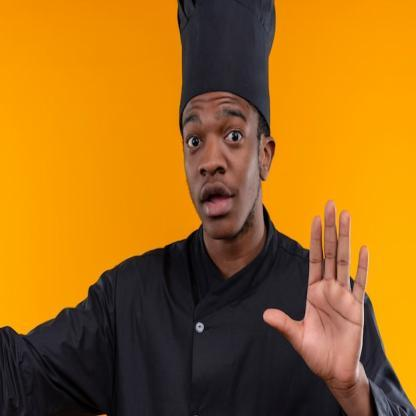stop: (262, 195, 376, 394)
